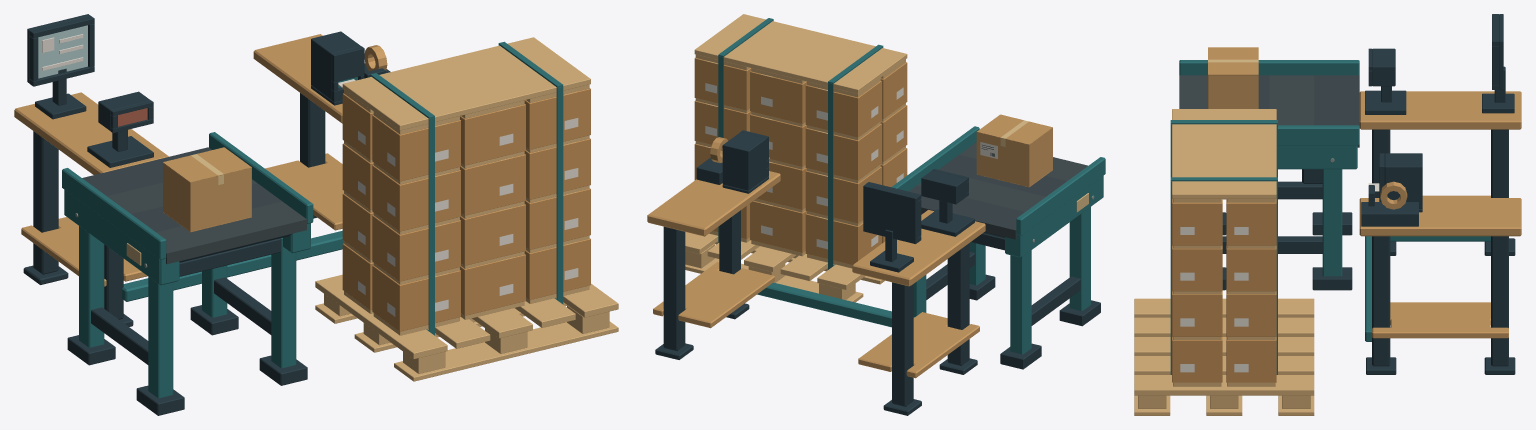
File: shipper-workcell-fixture.glb
The picture shows the model from 3 angles, left to right: view 1: azimuth 30°, elevation 25°; view 2: azimuth 150°, elevation 25°; view 3: azimuth 270°, elevation 25°; orthographic projection. The views are drawn at different scales.
Visible parts, largest first — view 1: shipper-workcell-fixture__batch_15, shipper-workcell-fixture__batch_14, shipper-workcell-fixture__batch_21, shipper-workcell-fixture__batch_02, shipper-workcell-fixture__batch_20, shipper-workcell-fixture__batch_00, shipper-workcell-fixture__batch_19, shipper-workcell-fixture__batch_17, shipper-workcell-fixture__batch_13, shipper-workcell-fixture__batch_08, shipper-workcell-fixture__batch_18, shipper-workcell-fixture__batch_06 (+5 smaller); view 2: shipper-workcell-fixture__batch_15, shipper-workcell-fixture__batch_14, shipper-workcell-fixture__batch_02, shipper-workcell-fixture__batch_21, shipper-workcell-fixture__batch_00, shipper-workcell-fixture__batch_08, shipper-workcell-fixture__batch_20, shipper-workcell-fixture__batch_17, shipper-workcell-fixture__batch_18, shipper-workcell-fixture__batch_04, shipper-workcell-fixture__batch_06, shipper-workcell-fixture__batch_13 (+4 smaller); view 3: shipper-workcell-fixture__batch_14, shipper-workcell-fixture__batch_15, shipper-workcell-fixture__batch_02, shipper-workcell-fixture__batch_21, shipper-workcell-fixture__batch_00, shipper-workcell-fixture__batch_20, shipper-workcell-fixture__batch_19, shipper-workcell-fixture__batch_18, shipper-workcell-fixture__batch_06, shipper-workcell-fixture__batch_13, shipper-workcell-fixture__batch_04, shipper-workcell-fixture__batch_16 (+5 smaller).
Boxes of the visible parts, x1,y1,x2,y2 form: shipper-workcell-fixture__batch_15: (342,88,590,331); shipper-workcell-fixture__batch_14: (315,37,618,381); shipper-workcell-fixture__batch_21: (62,132,313,398); shipper-workcell-fixture__batch_02: (14,34,343,286); shipper-workcell-fixture__batch_20: (67,233,307,415); shipper-workcell-fixture__batch_00: (23,93,325,326); shipper-workcell-fixture__batch_19: (107,179,306,264); shipper-workcell-fixture__batch_17: (163,147,251,231); shipper-workcell-fixture__batch_13: (370,41,563,335); shipper-workcell-fixture__batch_08: (27,14,94,119); shipper-workcell-fixture__batch_18: (82,147,281,231); shipper-workcell-fixture__batch_06: (87,91,153,167); shipper-workcell-fixture__batch_15: (694,57,907,264); shipper-workcell-fixture__batch_14: (685,14,907,302); shipper-workcell-fixture__batch_02: (647,171,985,378); shipper-workcell-fixture__batch_21: (891,126,1105,354); shipper-workcell-fixture__batch_00: (655,210,977,415); shipper-workcell-fixture__batch_08: (863,182,921,272); shipper-workcell-fixture__batch_20: (926,232,1100,369); shipper-workcell-fixture__batch_17: (977,114,1052,186); shipper-workcell-fixture__batch_18: (909,155,1066,239); shipper-workcell-fixture__batch_04: (722,130,768,193); shipper-workcell-fixture__batch_06: (921,169,974,236); shipper-workcell-fixture__batch_13: (718,18,883,269); shipper-workcell-fixture__batch_14: (1134,109,1314,415); shipper-workcell-fixture__batch_15: (1172,199,1276,382); shipper-workcell-fixture__batch_02: (1359,91,1521,338); shipper-workcell-fixture__batch_21: (1179,60,1359,276); shipper-workcell-fixture__batch_00: (1366,129,1515,374); shipper-workcell-fixture__batch_20: (1222,169,1352,290); shipper-workcell-fixture__batch_19: (1179,75,1314,125); shipper-workcell-fixture__batch_18: (1258,75,1359,147); shipper-workcell-fixture__batch_06: (1365,48,1406,114); shipper-workcell-fixture__batch_13: (1170,120,1277,374); shipper-workcell-fixture__batch_04: (1379,153,1422,212); shipper-workcell-fixture__batch_16: (1208,74,1258,108).
Size of the model in its own units: 2.54 by 1.4 by 2.15.
